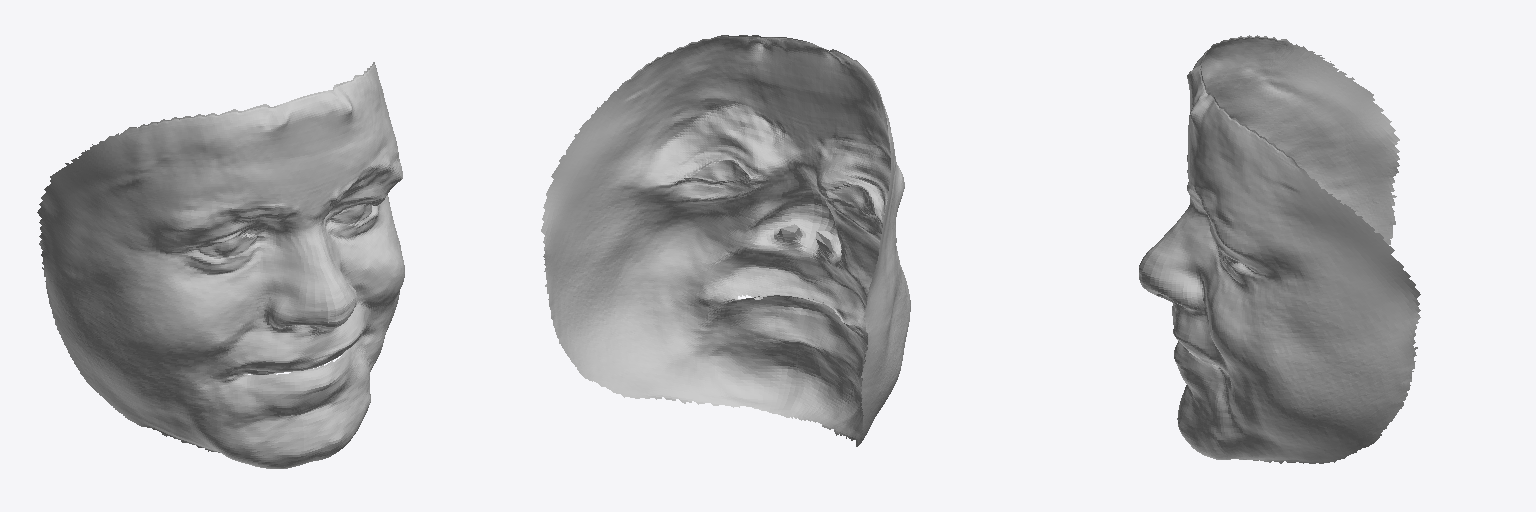
The model's file is 00016_0_hrn_high_mesh.obj.
3 renders of one model, left to right at view 1: azimuth 30°, elevation 25°; view 2: azimuth 150°, elevation 25°; view 3: azimuth 270°, elevation 25°, orthographic.
Size of the model in its own units: 1.46 by 1.62 by 1.11.